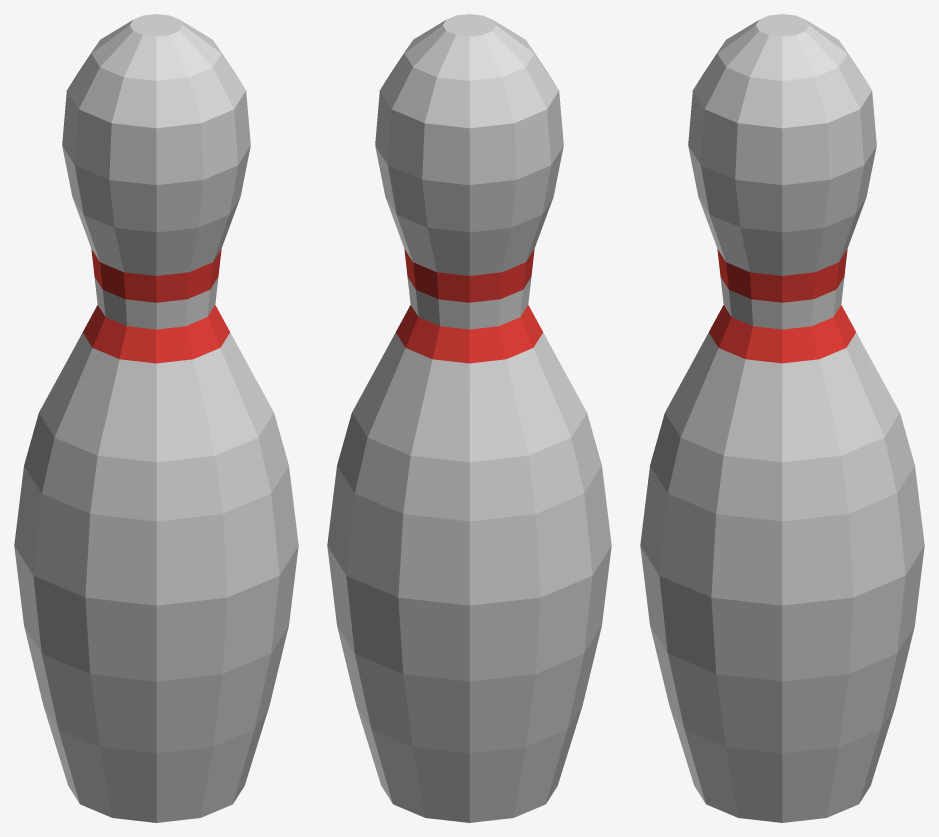
The model's file is Bowling Pin.fbx.
3 renders of one model, left to right at view 1: azimuth 30°, elevation 25°; view 2: azimuth 150°, elevation 25°; view 3: azimuth 270°, elevation 25°, orthographic.
Parts seen in each view (by area): view 1: Bowling Pin; view 2: Bowling Pin; view 3: Bowling Pin.
Part boxes in pixels (x1,y1,x2,y2): Bowling Pin: (14, 14, 298, 822); Bowling Pin: (327, 14, 611, 822); Bowling Pin: (640, 14, 924, 822).
Size of the model in its own units: 19.33 by 57 by 19.33.
